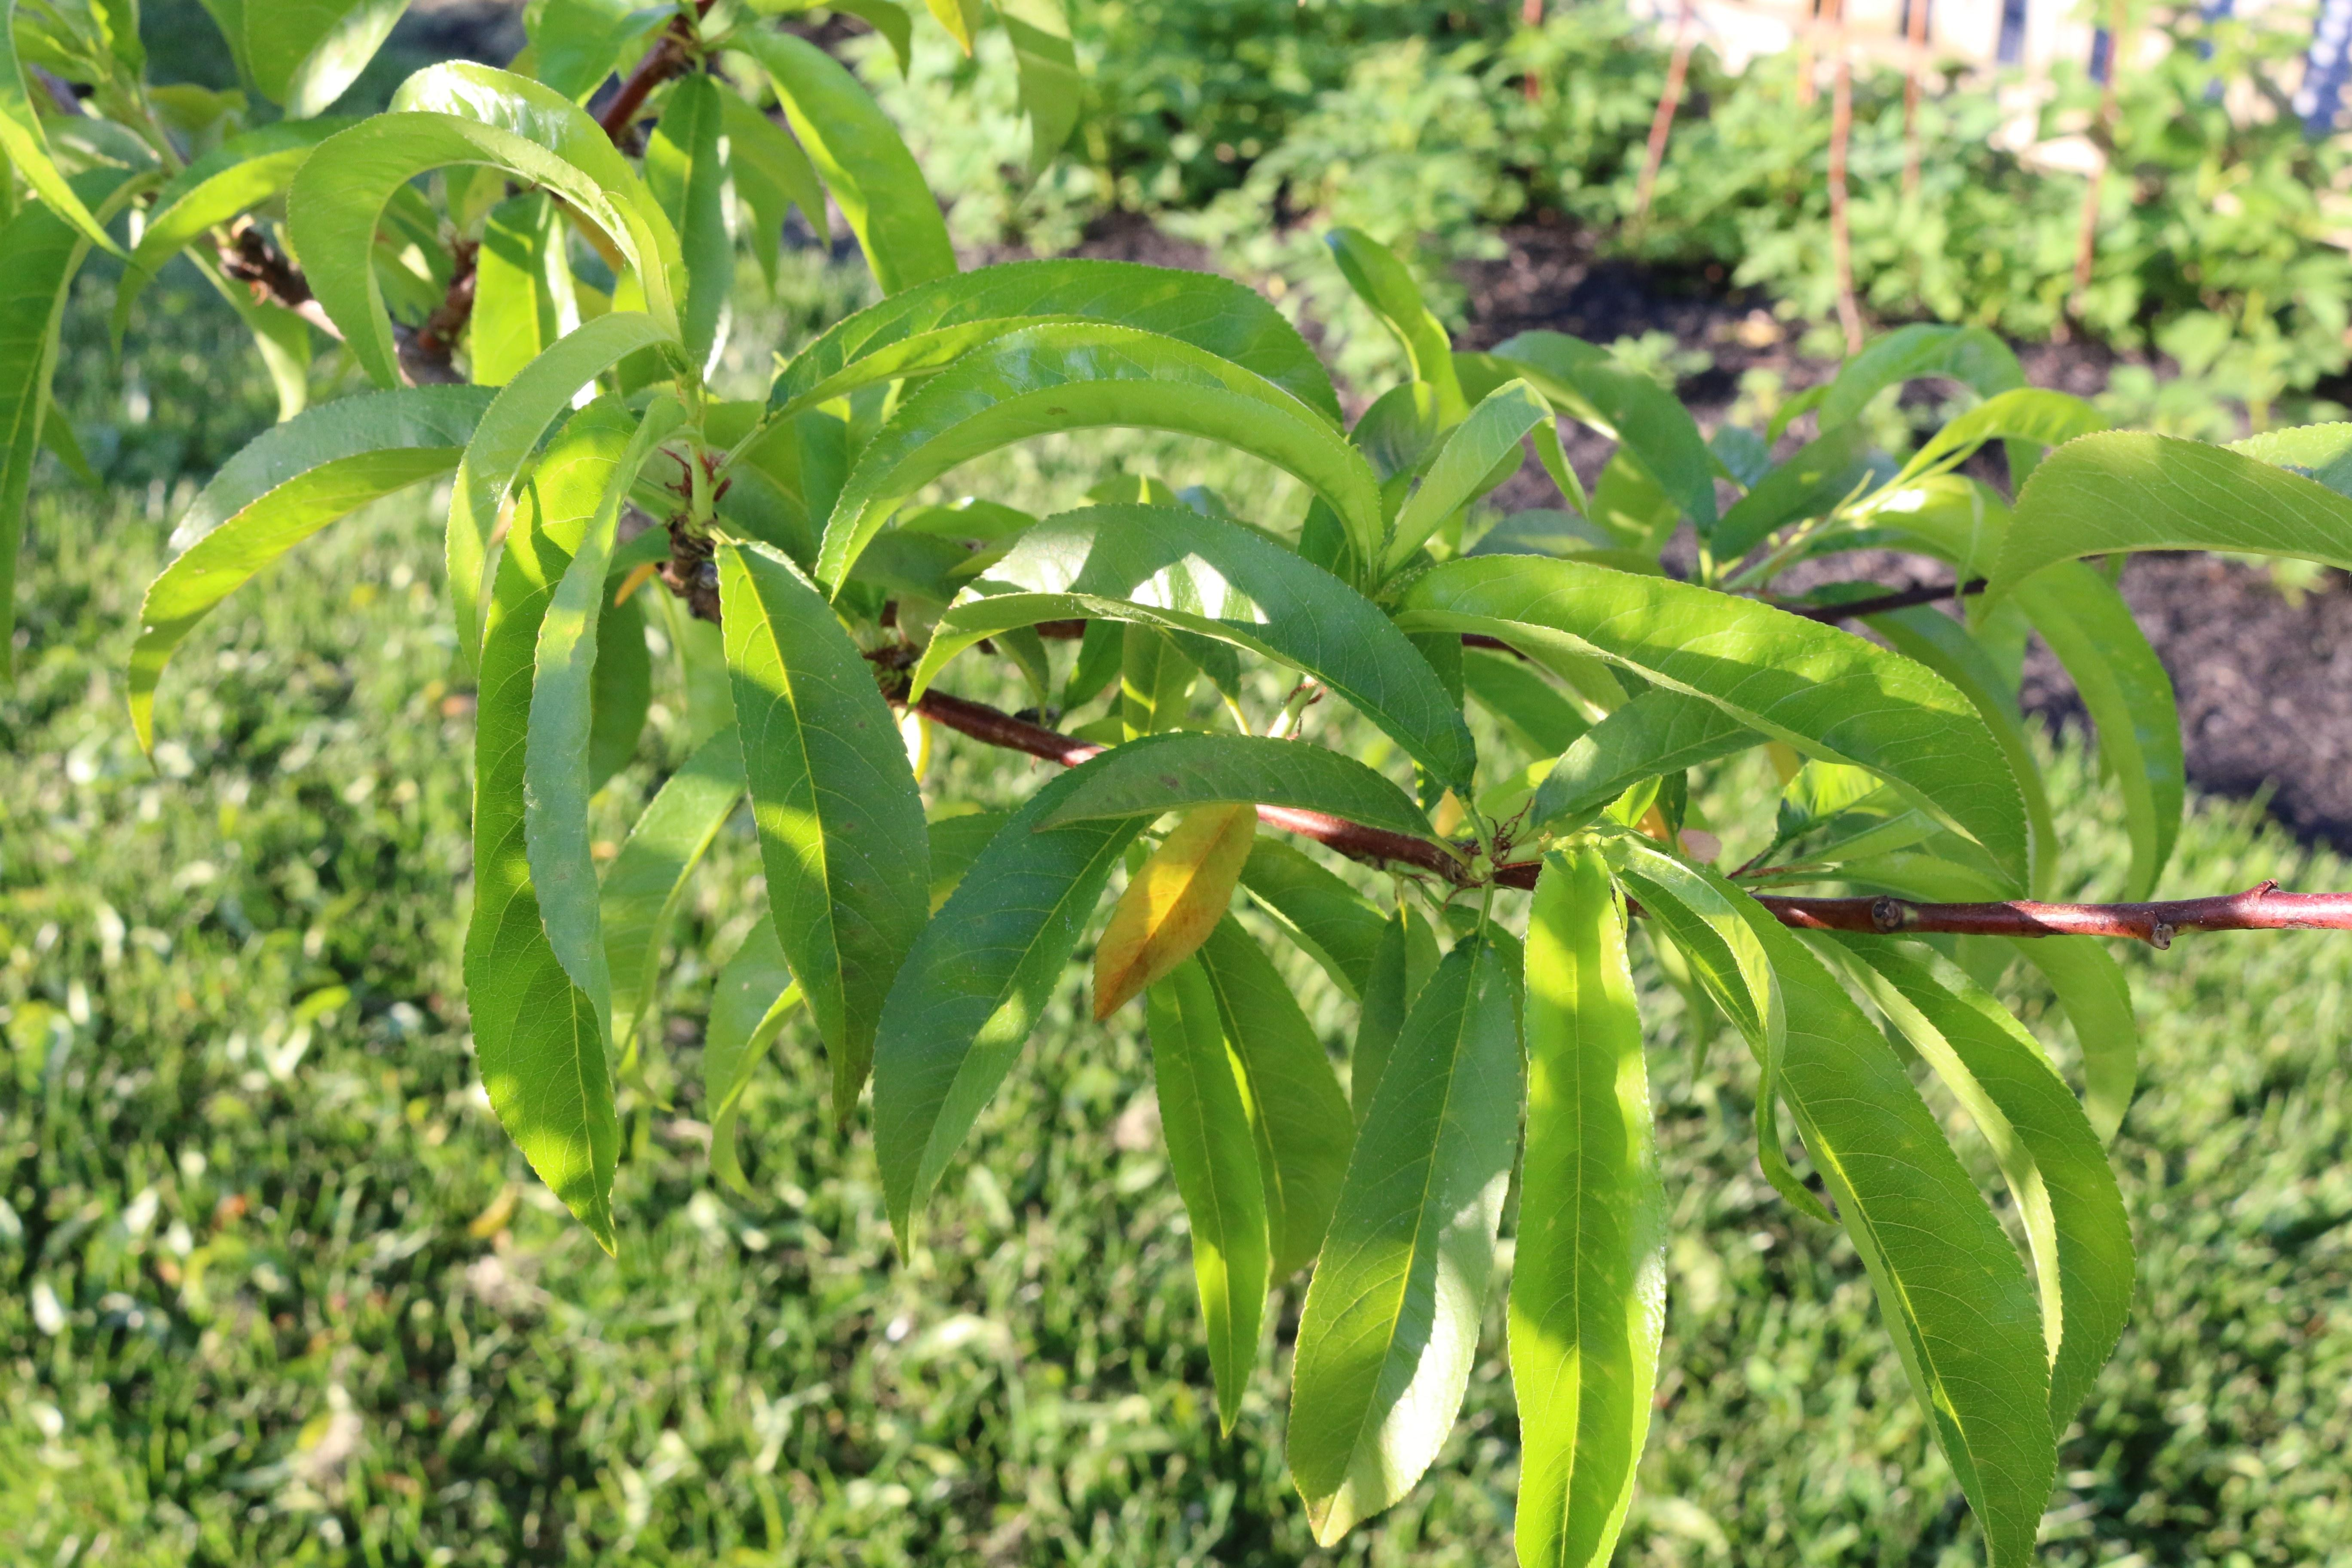Peach leaf: (1659, 892, 2046, 1568), (453, 381, 696, 1262), (1410, 551, 2023, 871), (1284, 922, 1538, 1561), (808, 329, 1389, 600), (917, 502, 1470, 770), (871, 759, 1143, 1249), (1848, 933, 2124, 1412), (707, 527, 927, 1127), (1500, 824, 1675, 1566), (128, 357, 457, 735), (1965, 401, 2350, 619), (1150, 938, 1265, 1468), (766, 31, 947, 289)
